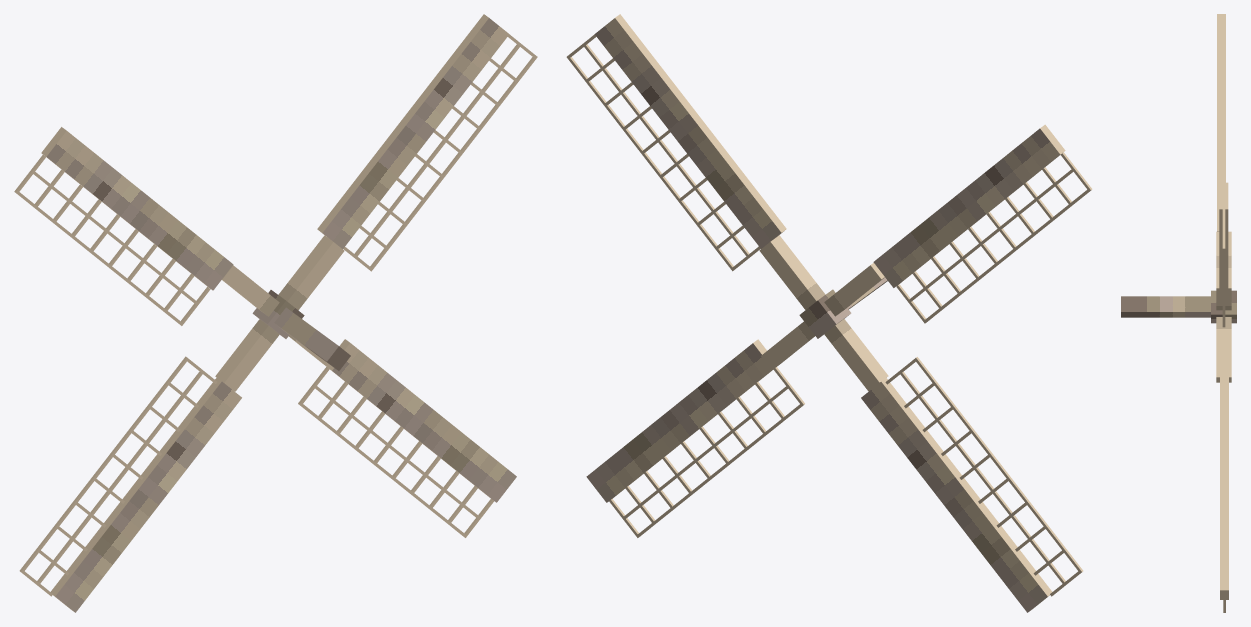
Rendered from mill_blades.obj.
3 views of the same model, side by side, from view 1: azimuth 30°, elevation 25°; view 2: azimuth 150°, elevation 25°; view 3: azimuth 270°, elevation 25° (orthographic). The views are drawn at different scales.
Parts seen in each view (by area): view 1: cube; view 2: cube; view 3: cube.
Part boxes in pixels (x1,y1,x2,y2): cube: (14, 14, 537, 612); cube: (566, 14, 1092, 612); cube: (1121, 14, 1236, 612).
Bounding box in the file's own units: 2.5 × 2.36 × 0.5625.
1 material, 1 textured.
